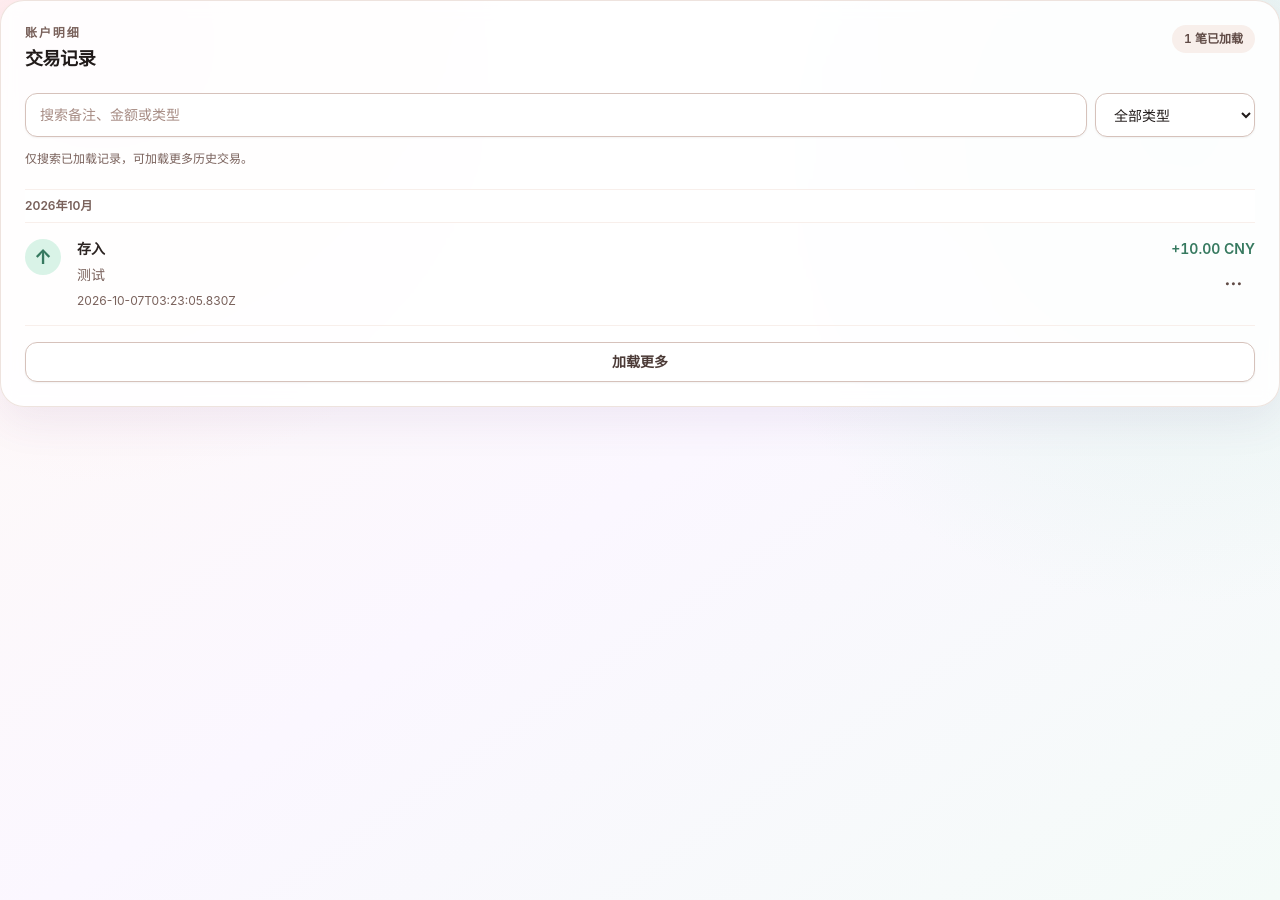
Test case: TransactionsList note actions › closes the actions with Escape and leaves no edit entry on voided rows
The width and height of the screenshot is (1280, 900).
Click the button named "更多操作：" at (1233, 285), box 1211,263 -> 1255,307
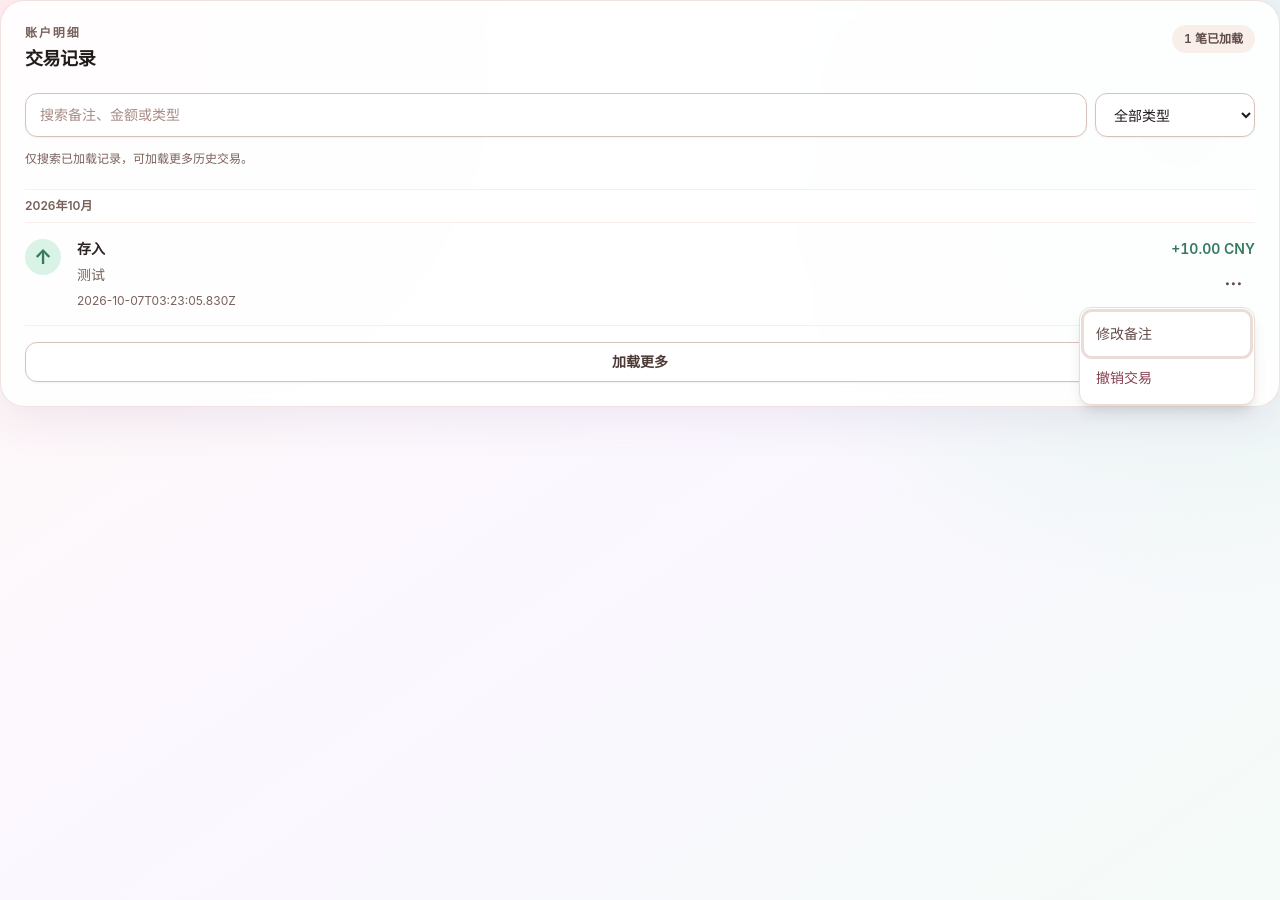
Press Escape
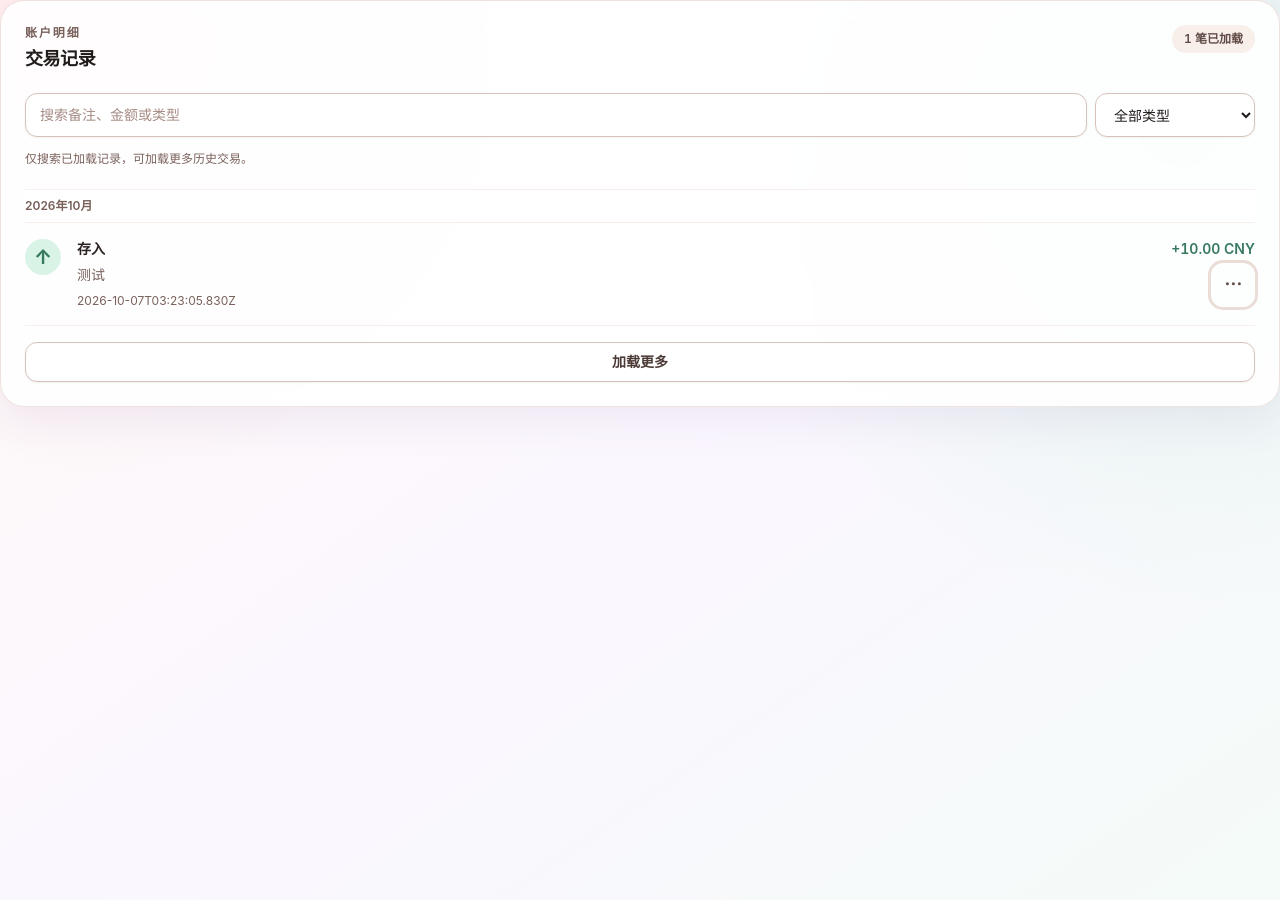
Now the element "交易操作" is gone
